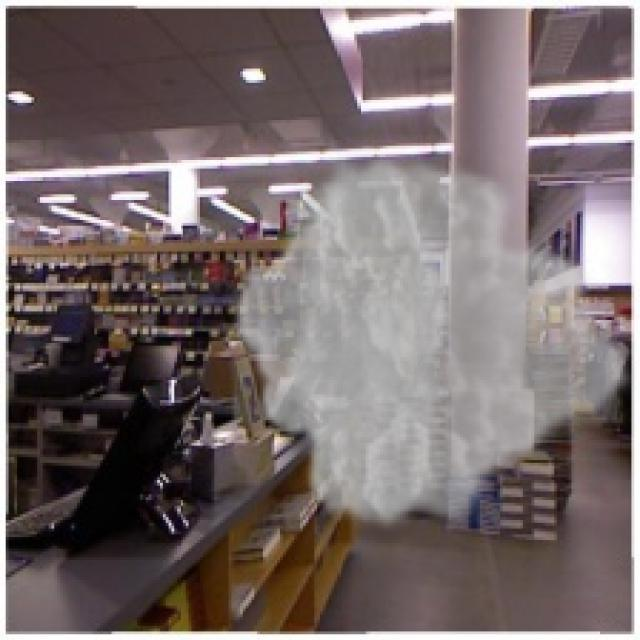Smoke: (228, 145, 638, 538)
